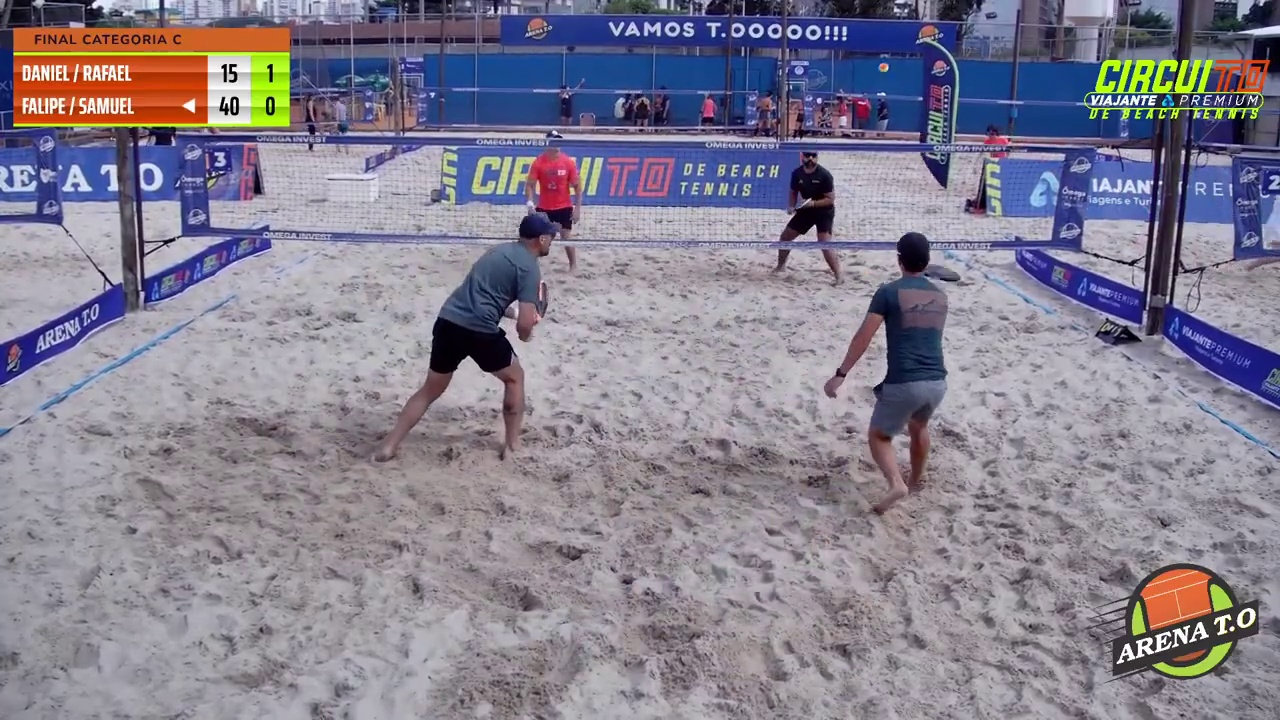court_line: (632, 0, 798, 306)
